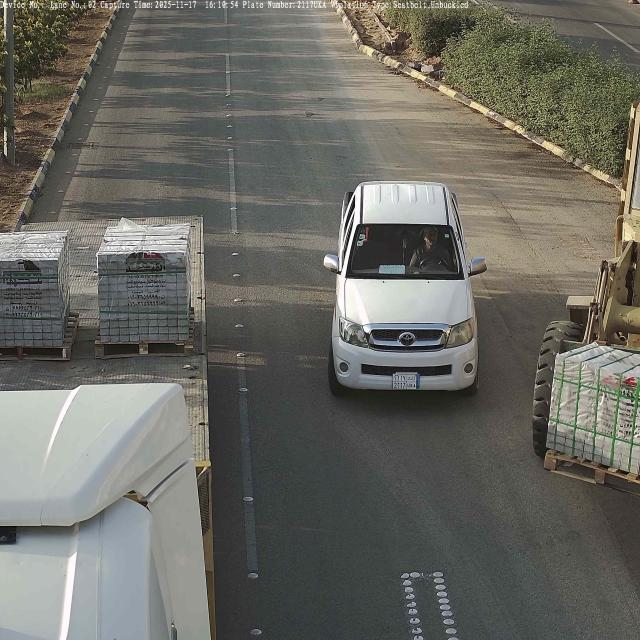person_without_seatbelt: (410, 227, 450, 273)
